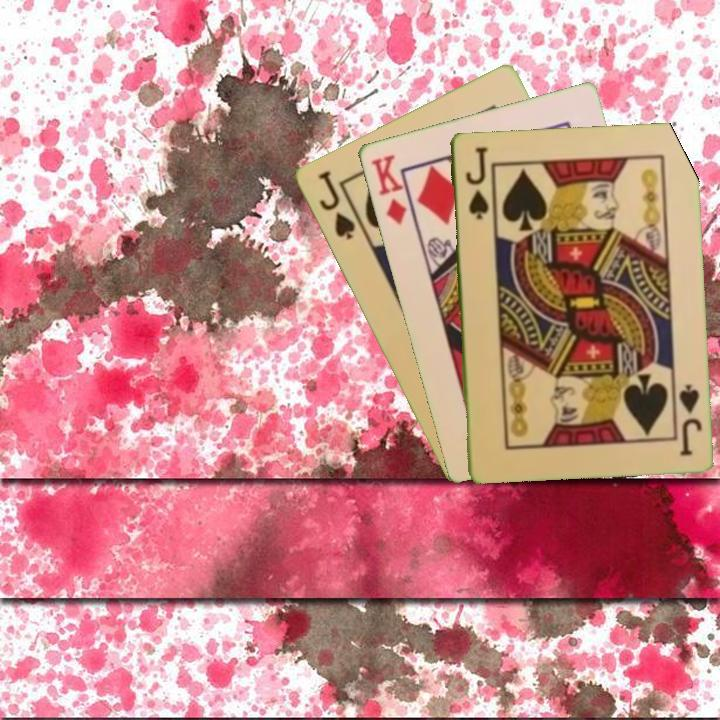Js: (313, 167, 358, 243), (462, 143, 491, 222), (675, 380, 704, 458)
Kd: (367, 150, 417, 228)
